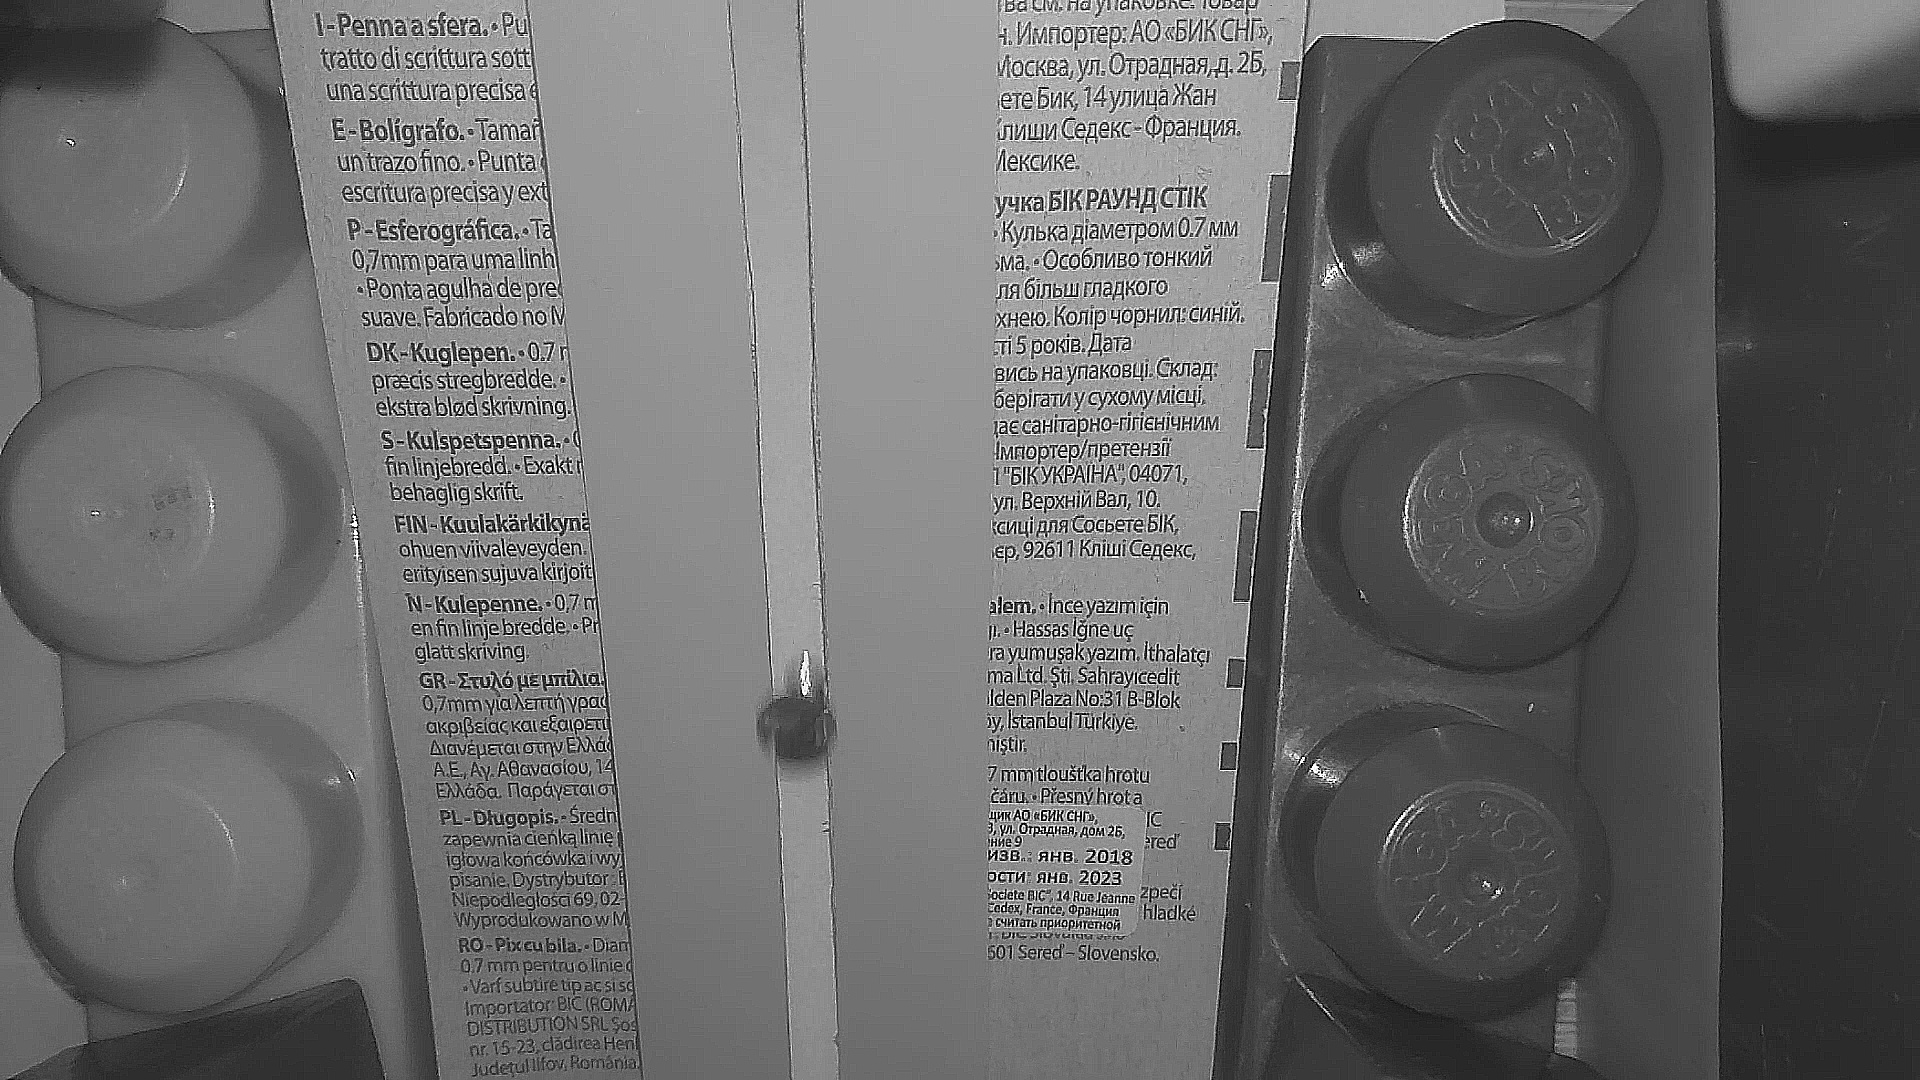i: (761, 694, 841, 761)
